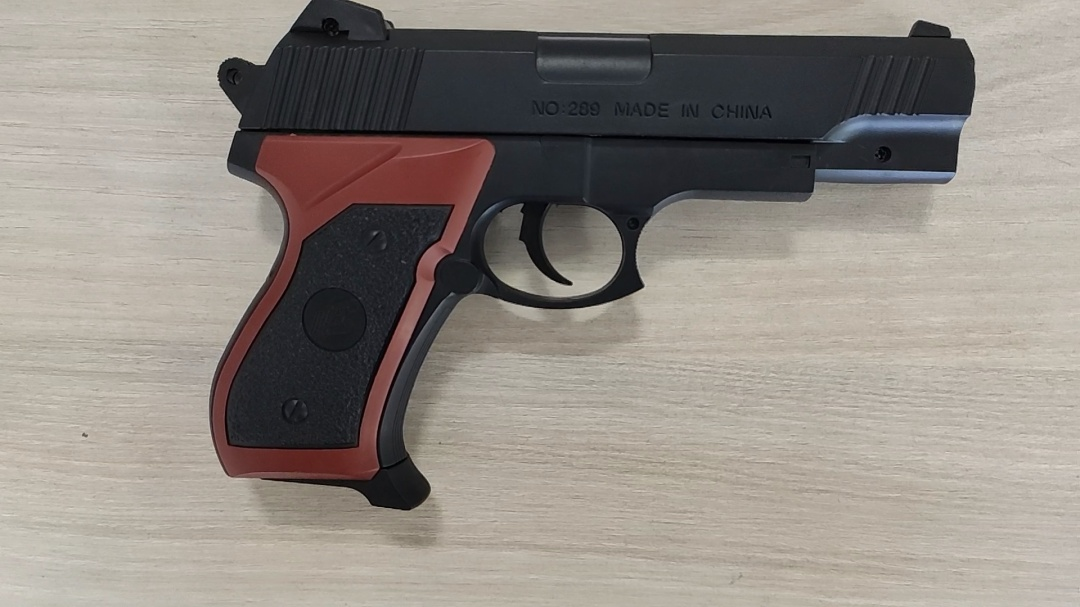gun: (410, 88, 764, 319)
